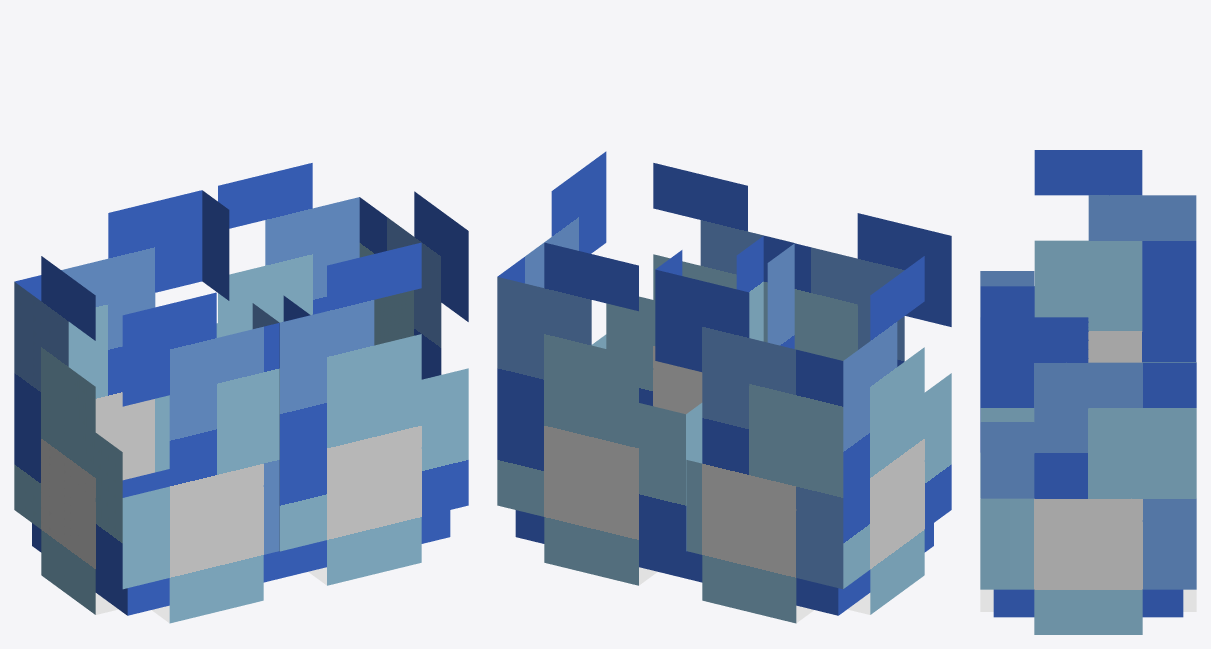
The model's file is sl_rgb_fire_feet.glb.
3 views of the same model, side by side, from view 1: azimuth 30°, elevation 25°; view 2: azimuth 150°, elevation 25°; view 3: azimuth 270°, elevation 25° (orthographic).
Visible parts, largest first — view 1: bb_rgb_fire_feet; view 2: bb_rgb_fire_feet; view 3: bb_rgb_fire_feet.
Boxes of the visible parts, left/top/right/bottom form: bb_rgb_fire_feet: left=14, top=163, right=468, bottom=623; bb_rgb_fire_feet: left=497, top=151, right=951, bottom=623; bb_rgb_fire_feet: left=980, top=150, right=1196, bottom=634.
Bounding box in the file's own units: 0.5219 × 0.66 × 0.285.
1 material, 1 textured.
